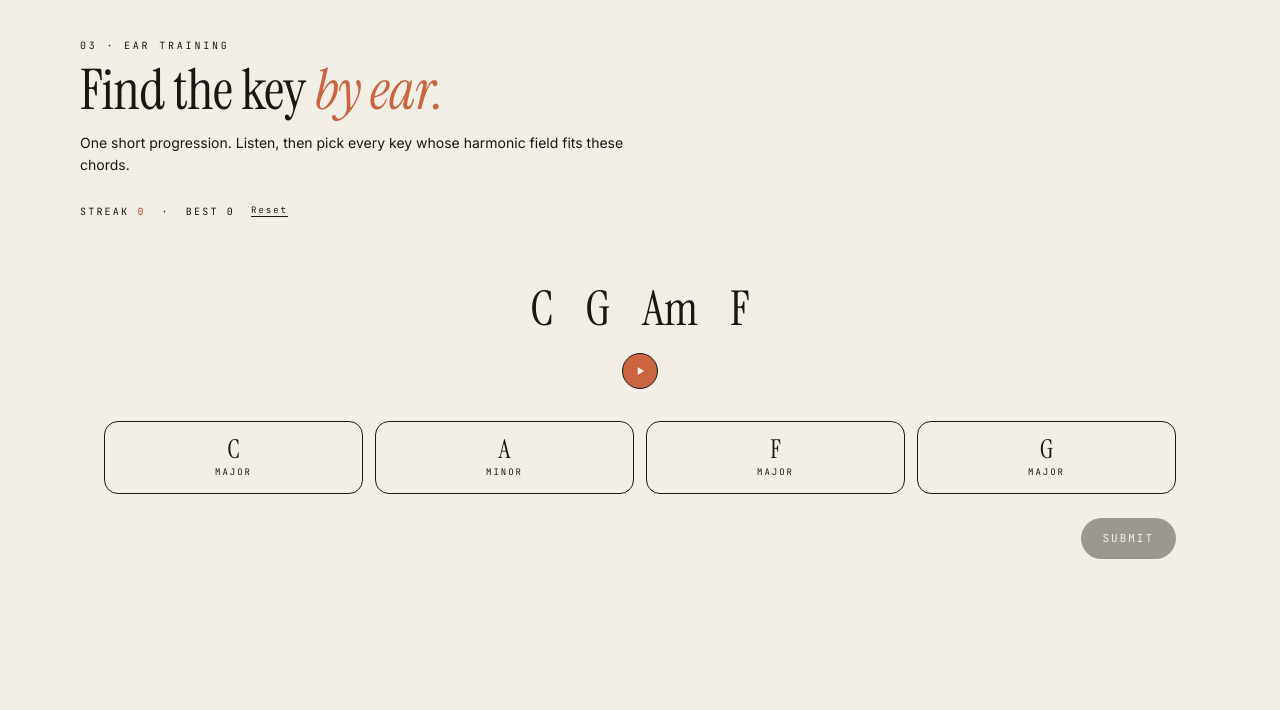
Test: EarTrainingView › Selecting only one valid key flags the missed valid key in the reveal
Step 1. Click the button "C Major" → (234, 457), box top-left (104, 421), bottom-right (363, 494)
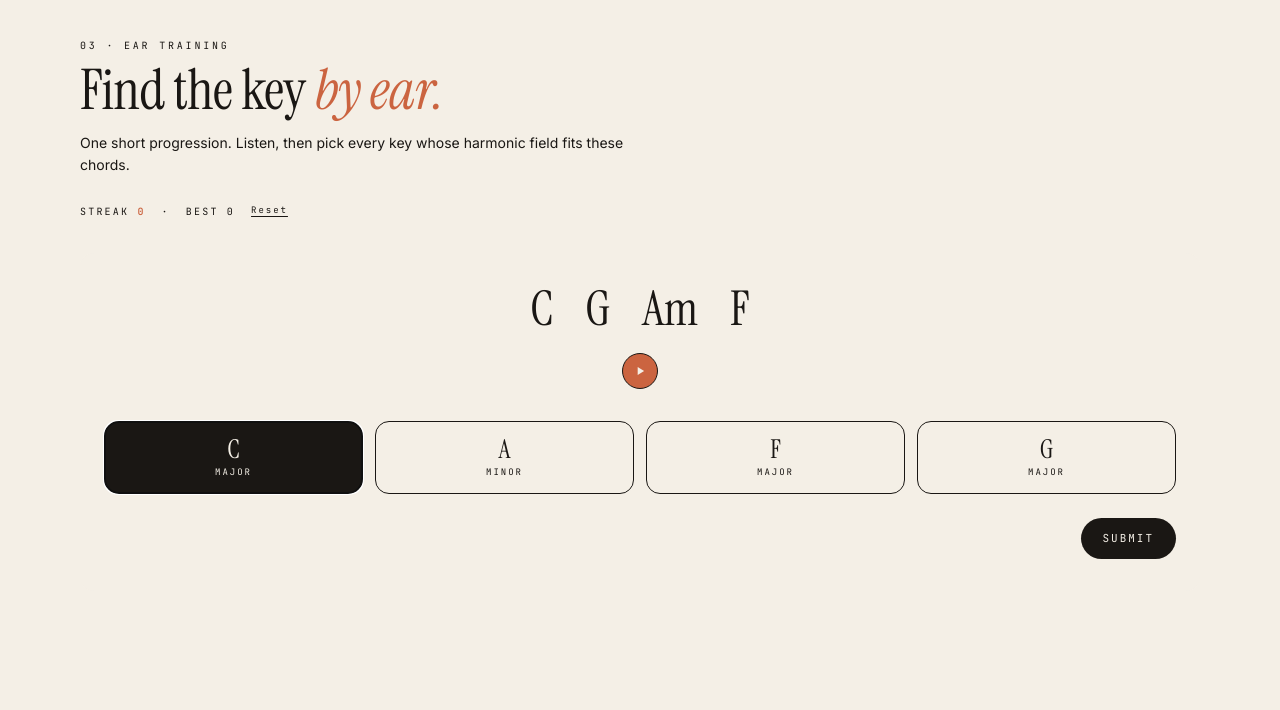
Step 2. Click the button "Submit" → (1128, 538), box top-left (1080, 518), bottom-right (1176, 559)
(page scrolled)
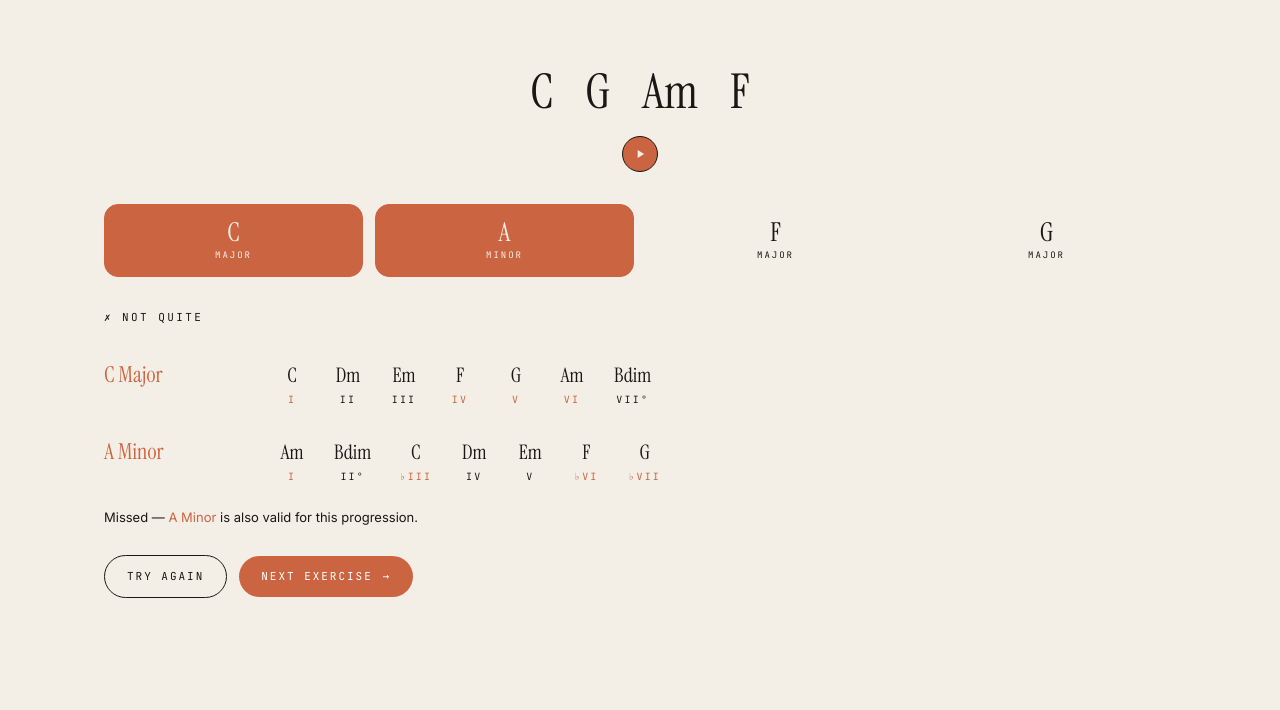
Result: the text "✗ Not quite" is shown at top-left (104, 310), bottom-right (203, 324)
Result: the text "Missed — A Minor is also valid for this progression." is shown at top-left (104, 509), bottom-right (418, 525)
